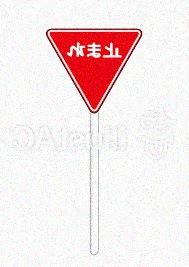Regulatory_sign_triangle: (41, 20, 152, 117)
